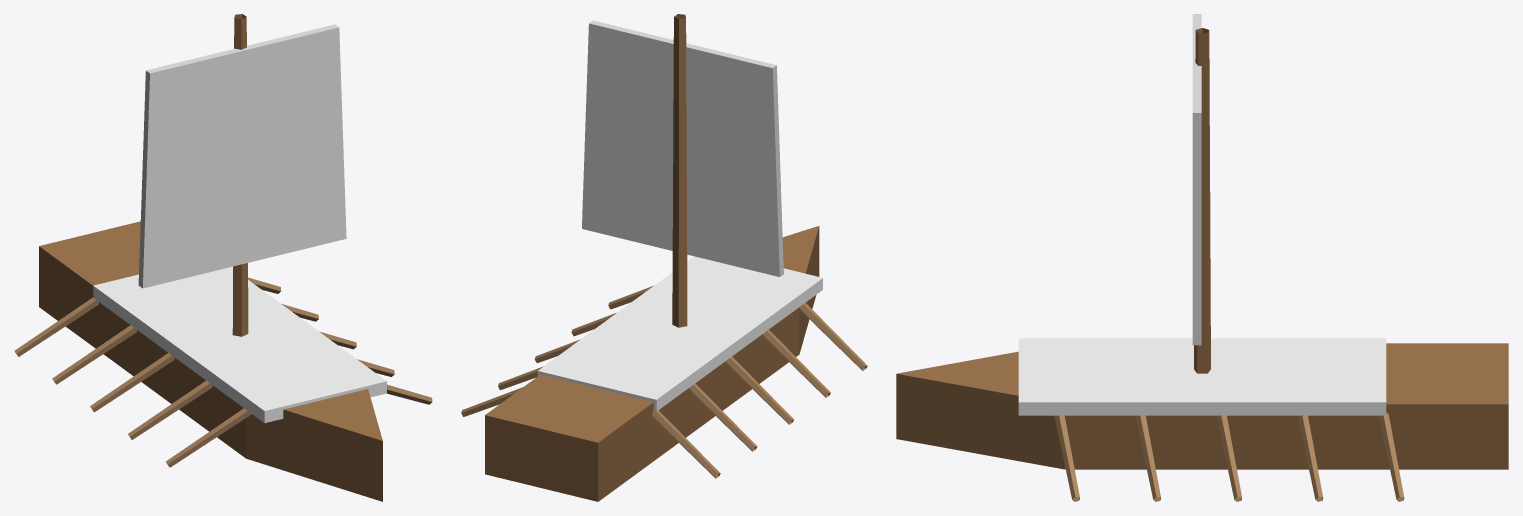
Rendered from Melee Water.glb.
3 renders of one model, left to right at view 1: azimuth 30°, elevation 25°; view 2: azimuth 150°, elevation 25°; view 3: azimuth 270°, elevation 25°, orthographic. The views are drawn at different scales.
Parts seen in each view (by area): view 1: Units_Melee Water; view 2: Units_Melee Water; view 3: Units_Melee Water.
Part boxes in pixels (x1,y1,x2,y2): Units_Melee Water: (14,14,432,501); Units_Melee Water: (461,14,867,501); Units_Melee Water: (896,14,1508,501).
Size of the model in its own units: 0.1822 by 0.25 by 0.34.
